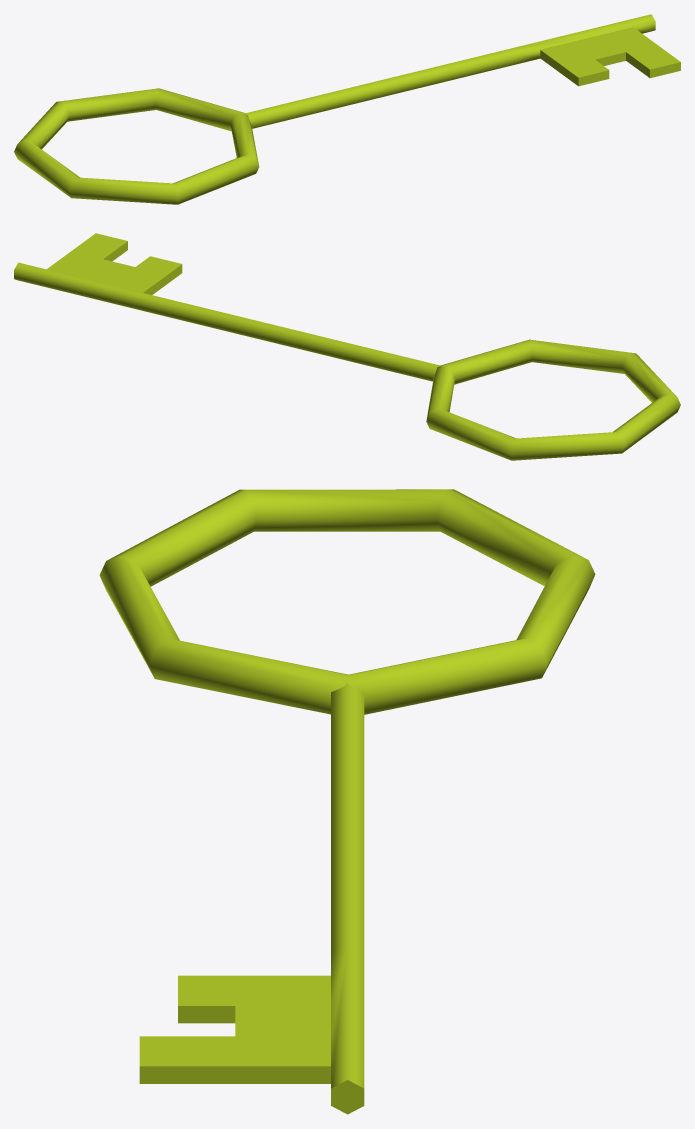
The model's file is Золотой ключ.FBX.
The picture shows the model from 3 angles, top to bottom: view 1: azimuth 30°, elevation 25°; view 2: azimuth 150°, elevation 25°; view 3: azimuth 270°, elevation 25°; orthographic projection. The views are drawn at different scales.
Visible parts, largest first — view 1: Ключ; view 2: Ключ; view 3: Ключ.
Part boxes in pixels (x1,y1,x2,y2): Ключ: [14, 14, 680, 204]; Ключ: [14, 233, 680, 460]; Ключ: [99, 489, 595, 1114].
Size of the model in its own units: 73.62 by 2.42 by 25.91.
